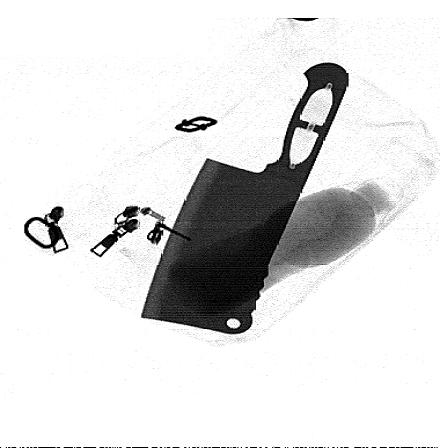Knife: (140, 62, 350, 335)
